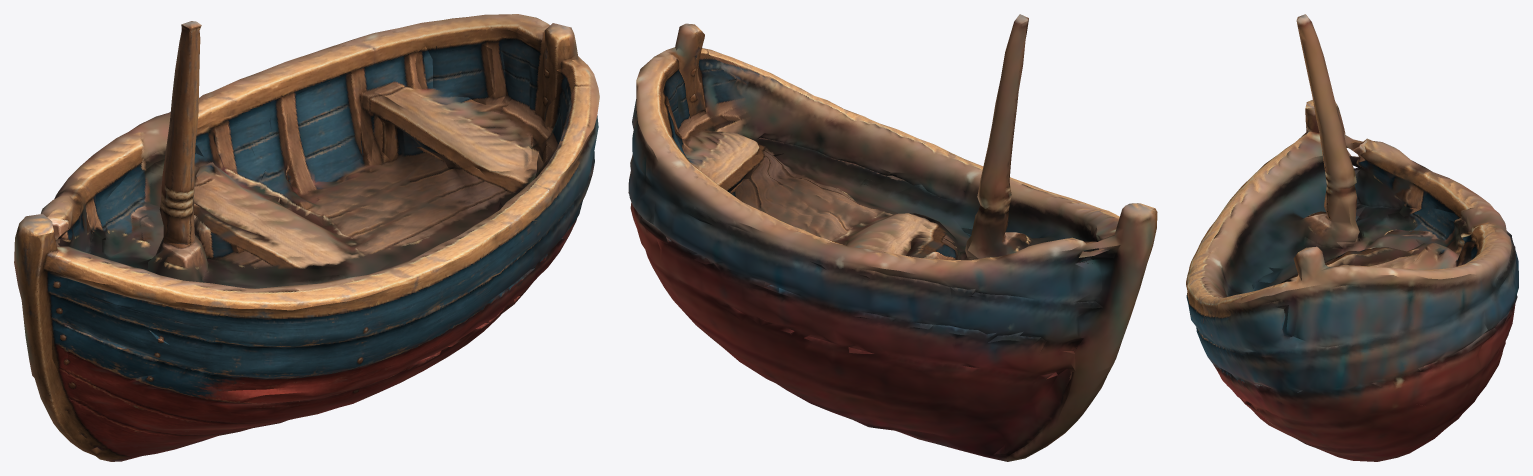
File: boat_tsr.glb
The picture shows the model from 3 angles, left to right: view 1: azimuth 30°, elevation 25°; view 2: azimuth 150°, elevation 25°; view 3: azimuth 270°, elevation 25°; orthographic projection. The views are drawn at different scales.
Parts seen in each view (by area): view 1: BoatTSR; view 2: BoatTSR; view 3: BoatTSR.
Part boxes in pixels (x1,y1,x2,y2): BoatTSR: (14,14,599,461); BoatTSR: (628,14,1157,461); BoatTSR: (1186,14,1518,461).
Size of the model in its own units: 3.99 by 3.13 by 2.46.
1 material, 1 textured.
